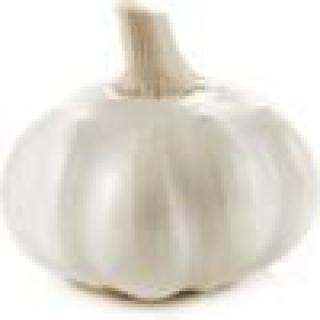Bawang Putih: (4, 4, 318, 299)
